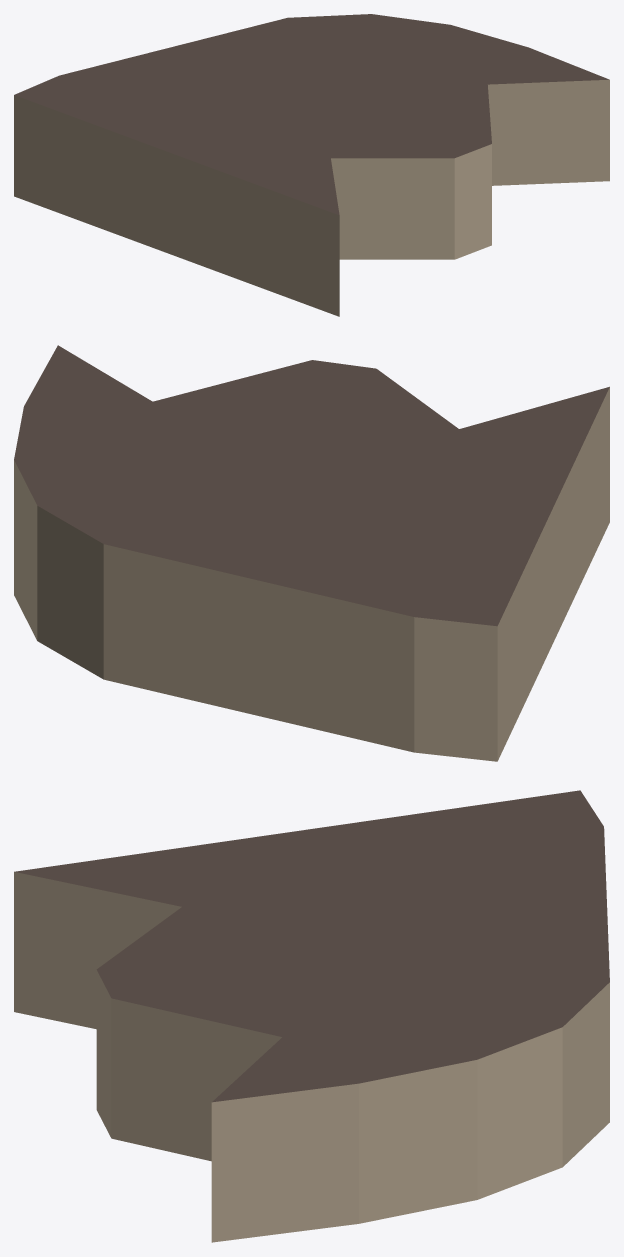
3 views of the same model, one above another, from view 1: azimuth 30°, elevation 25°; view 2: azimuth 150°, elevation 25°; view 3: azimuth 270°, elevation 25° (orthographic). The views are drawn at different scales.
Visible parts, largest first — view 1: HP-w293416976; view 2: HP-w293416976; view 3: HP-w293416976.
Boxes of the visible parts, box(x1,y1,x2,y2) form: HP-w293416976: box(14, 14, 609, 316); HP-w293416976: box(14, 345, 609, 761); HP-w293416976: box(14, 790, 609, 1242).
Bounding box in the file's own units: 42.94 × 9 × 34.66.
